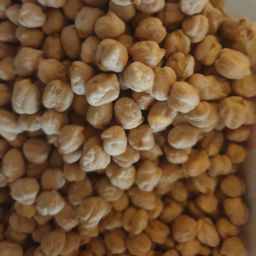White Chickpeas: (2, 8, 256, 256), (51, 63, 184, 183)
